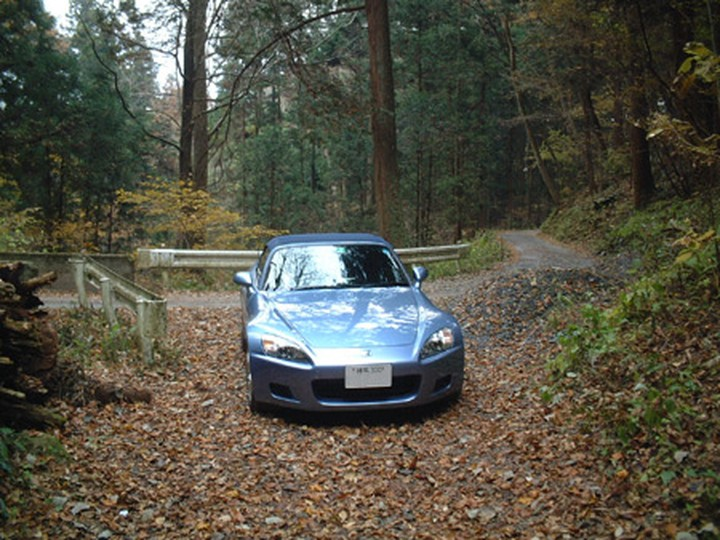car: (232, 229, 469, 425)
